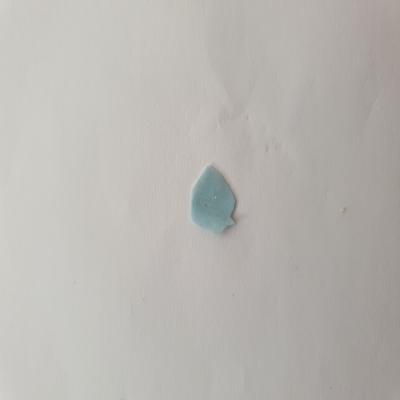plastic: (184, 159, 244, 238)
